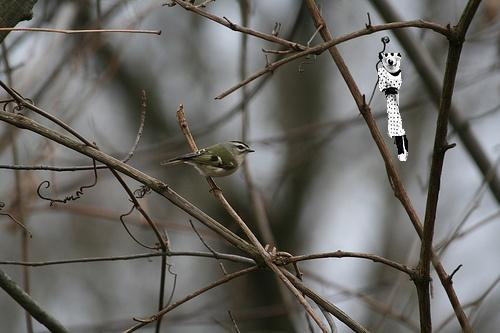tampered: (379, 54, 408, 161)
